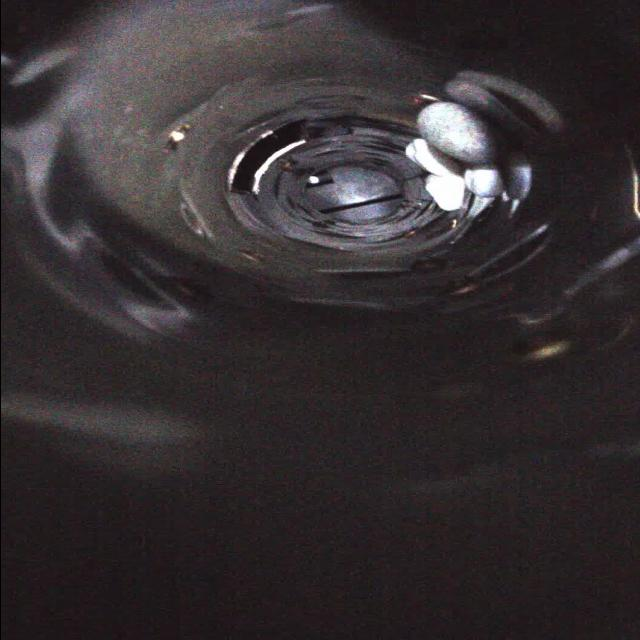crack: (318, 132, 406, 156), (313, 225, 379, 252)
hole: (225, 114, 308, 196)
